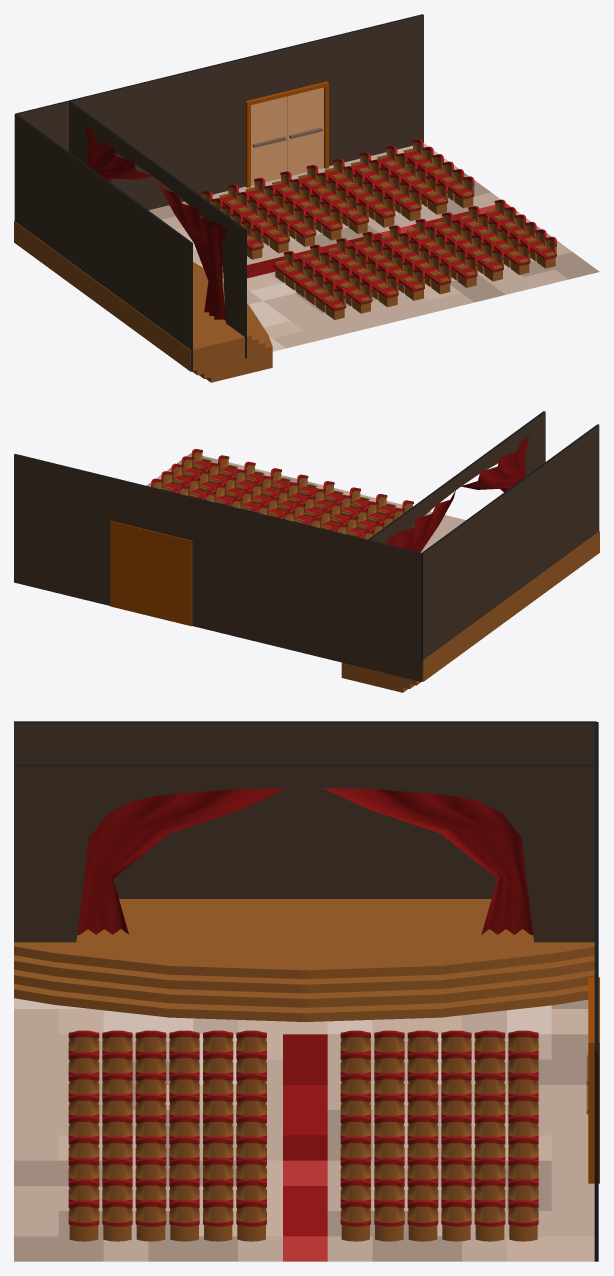
The model's file is theatre.fbx.
3 views of the same model, one above another, from view 1: azimuth 30°, elevation 25°; view 2: azimuth 150°, elevation 25°; view 3: azimuth 270°, elevation 25° (orthographic). The views are drawn at different scales.
Parts seen in each view (by area): view 1: wall.004, wall.003, Cube.005, Cube.004, Plane.001, Cube.006, Cube.007, wall.005, Plane.002; view 2: wall.004, wall.003, Cube.005, Cube.007, Cube.006, wall.005, Plane.002, Plane.001; view 3: Plane.001, Cube.006, wall.003, wall.005, Cube.004, Cube.005, Plane.002, wall.004, Cube.007.
Part boxes in pixels (bbox=[...]): wall.004: bbox=[15, 14, 423, 210]; wall.003: bbox=[14, 114, 192, 371]; Cube.005: bbox=[273, 199, 556, 319]; Cube.004: bbox=[199, 139, 474, 259]; Plane.001: bbox=[149, 143, 599, 351]; Cube.006: bbox=[14, 221, 272, 382]; Cube.007: bbox=[245, 81, 328, 187]; wall.005: bbox=[69, 101, 246, 358]; Plane.002: bbox=[84, 125, 227, 321]; wall.004: bbox=[14, 454, 422, 681]; wall.003: bbox=[422, 424, 599, 678]; Cube.005: bbox=[151, 449, 414, 539]; Cube.007: bbox=[110, 521, 192, 626]; Cube.006: bbox=[341, 531, 599, 692]; wall.005: bbox=[368, 411, 545, 544]; Plane.002: bbox=[387, 436, 529, 552]; Plane.001: bbox=[146, 453, 465, 552]; Plane.001: bbox=[14, 998, 594, 1261]; Cube.006: bbox=[14, 899, 594, 1021]; wall.003: bbox=[14, 721, 596, 898]; wall.005: bbox=[14, 764, 594, 942]; Cube.004: bbox=[340, 1030, 538, 1241]; Cube.005: bbox=[68, 1030, 266, 1241]; Plane.002: bbox=[77, 788, 533, 934]; wall.004: bbox=[594, 722, 598, 1261]; Cube.007: bbox=[586, 977, 599, 1183].
Size of the model in its own units: 2007 by 675 by 1509.
